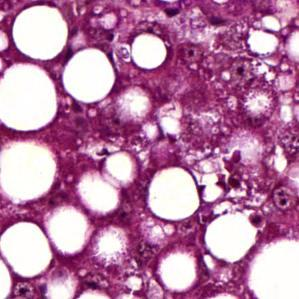steatosis: (1, 64, 59, 133), (145, 168, 204, 223), (63, 49, 121, 101), (127, 30, 170, 68)
